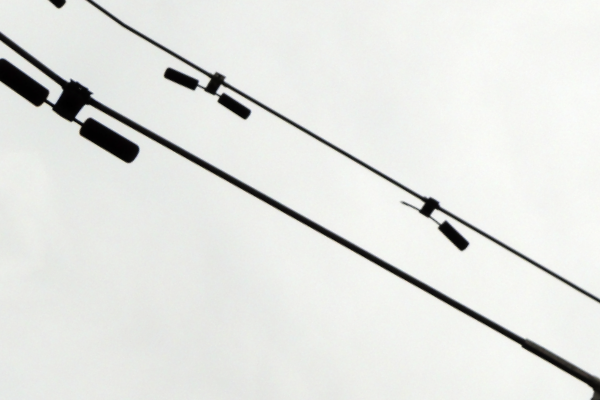damper: (1, 56, 141, 167), (161, 63, 253, 123)
damper_defect: (397, 193, 470, 253)
